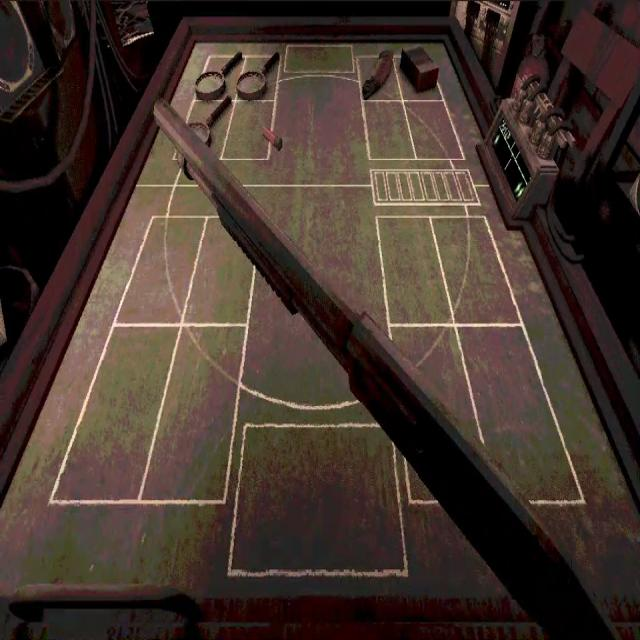ally: (0, 178, 638, 597)
cigar: (400, 47, 439, 92)
doubledamage: (362, 52, 393, 99)
emptyspace: (46, 319, 179, 503), (453, 320, 583, 502), (144, 322, 245, 502), (433, 215, 523, 327), (116, 213, 204, 323), (376, 219, 456, 328), (406, 101, 466, 160), (364, 100, 418, 161), (222, 98, 274, 159)
enemyspace: (138, 32, 490, 176)
gun: (155, 98, 615, 639)
lens: (195, 52, 242, 99), (236, 51, 279, 98)
